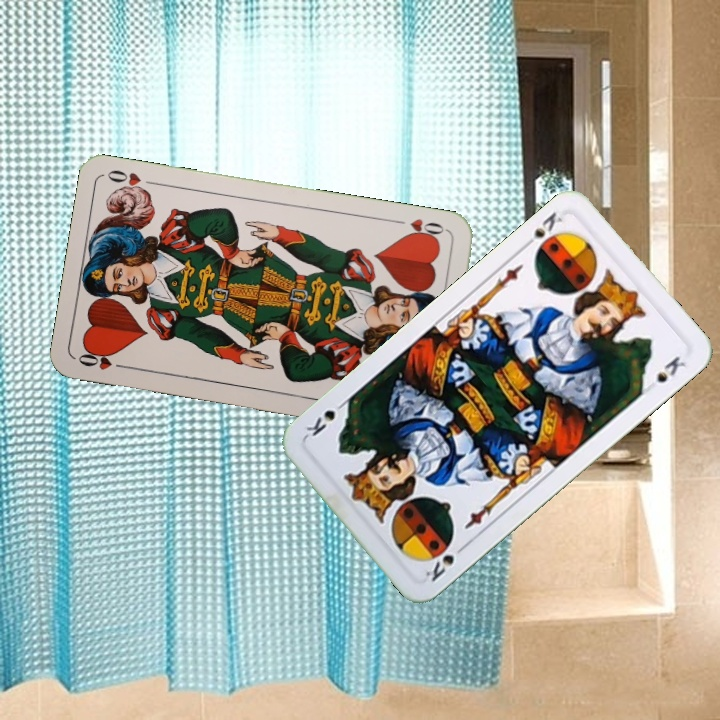HO: (390, 214, 449, 243), (74, 347, 133, 373)
SK: (421, 540, 470, 585), (519, 208, 565, 252)
